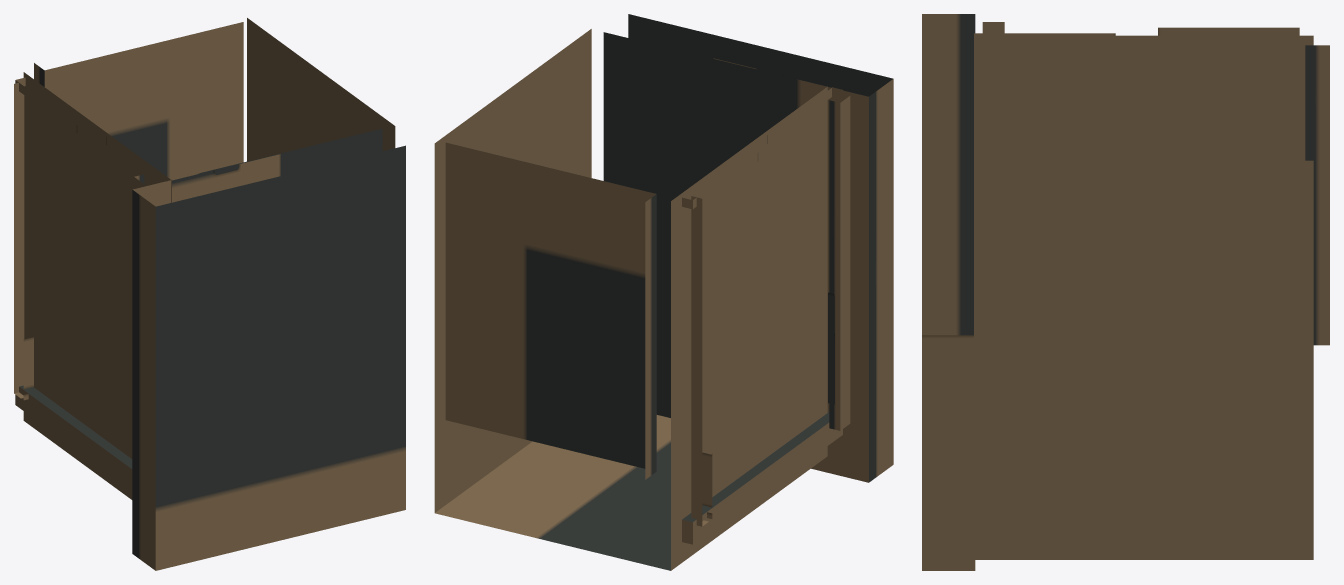
File: section-5.obj
The picture shows the model from 3 angles, left to right: view 1: azimuth 30°, elevation 25°; view 2: azimuth 150°, elevation 25°; view 3: azimuth 270°, elevation 25°; orthographic projection. The views are drawn at different scales.
Bounding box in the file's own units: 0.7706 × 1.02 × 0.9067.
